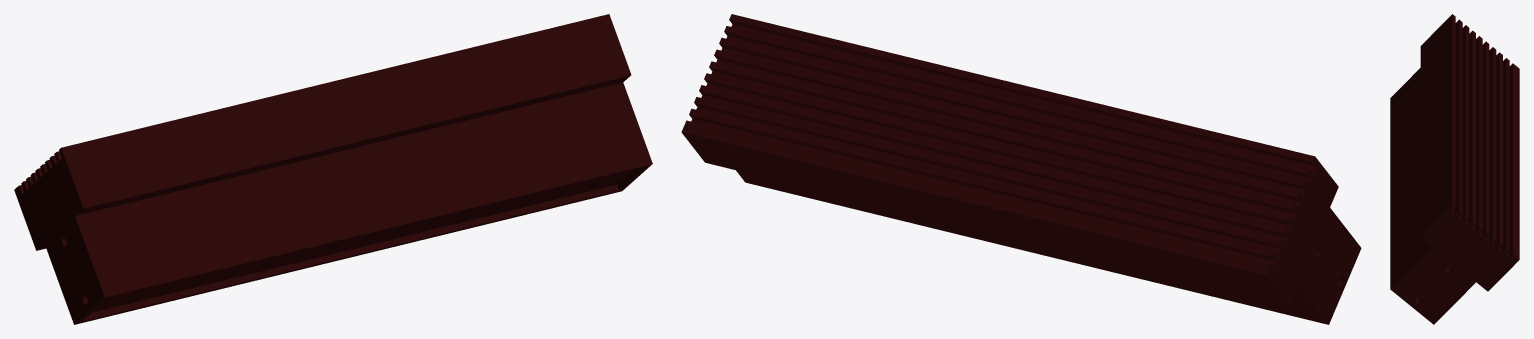
Rendered from 高亮光源.glb.
The picture shows the model from 3 angles, left to right: view 1: azimuth 30°, elevation 25°; view 2: azimuth 150°, elevation 25°; view 3: azimuth 270°, elevation 25°; orthographic projection. The views are drawn at different scales.
Visible parts, largest first — view 1: 高亮光源; view 2: 高亮光源; view 3: 高亮光源.
Part boxes in pixels (box(x1,y1,x2,y2)): 高亮光源: box(14, 14, 652, 324); 高亮光源: box(681, 14, 1361, 324); 高亮光源: box(1390, 14, 1519, 324).
Bounding box in the file's own units: 0.2 × 0.0585 × 0.0573.
